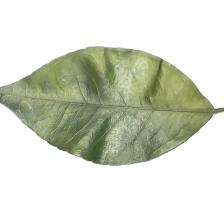healthy: (12, 48, 186, 165)
